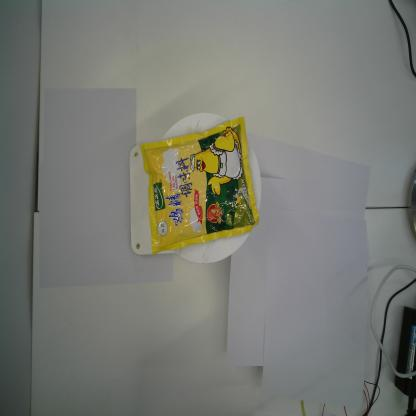Seasoner: (139, 116, 260, 257)
